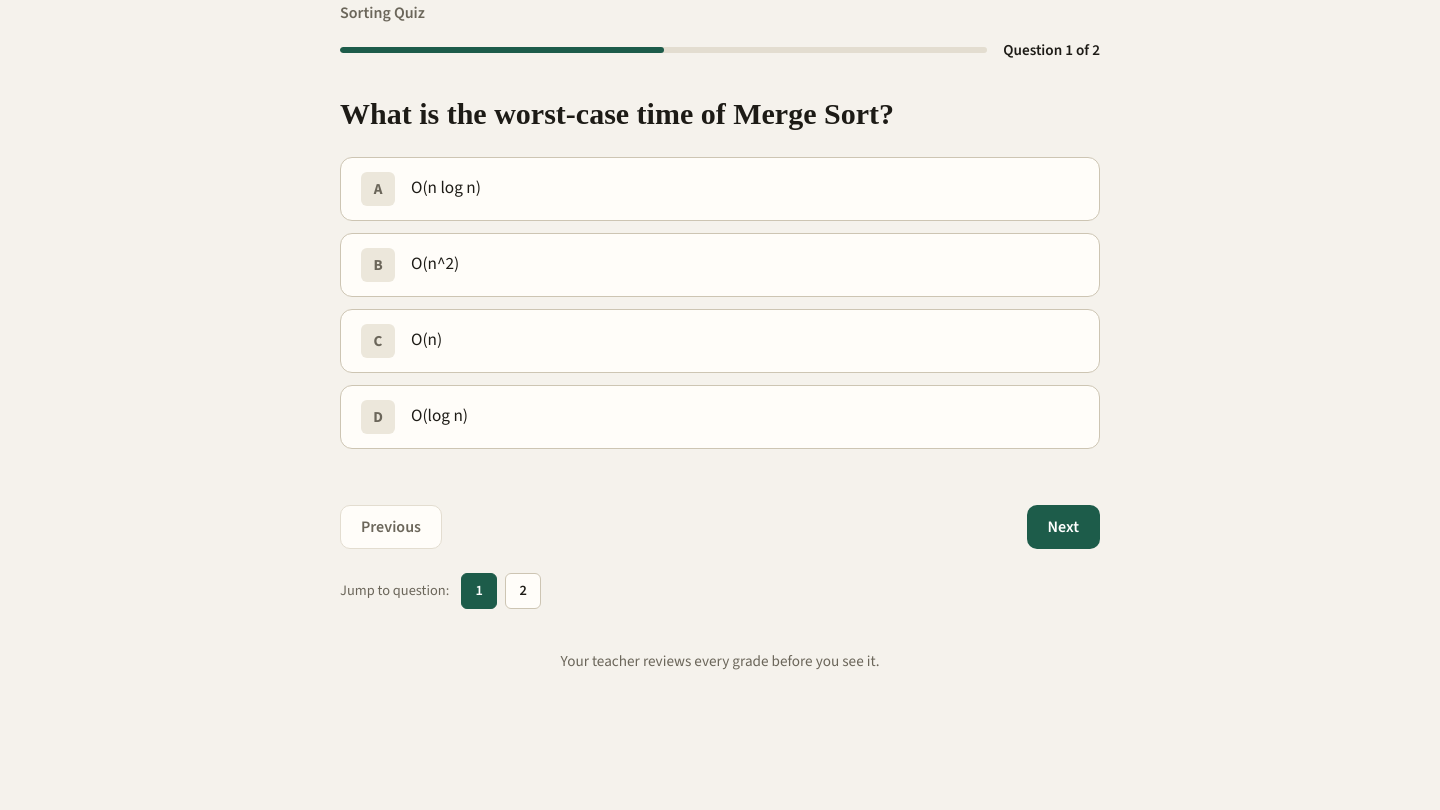
Test: Quiz submit after the sign-in has expired › keeps the answers and the page instead of sending the student to /login
The width and height of the screenshot is (1440, 810).
Click the radio button named "A. O(n log n)".
click(378, 189)  # box [340,157,1100,221]
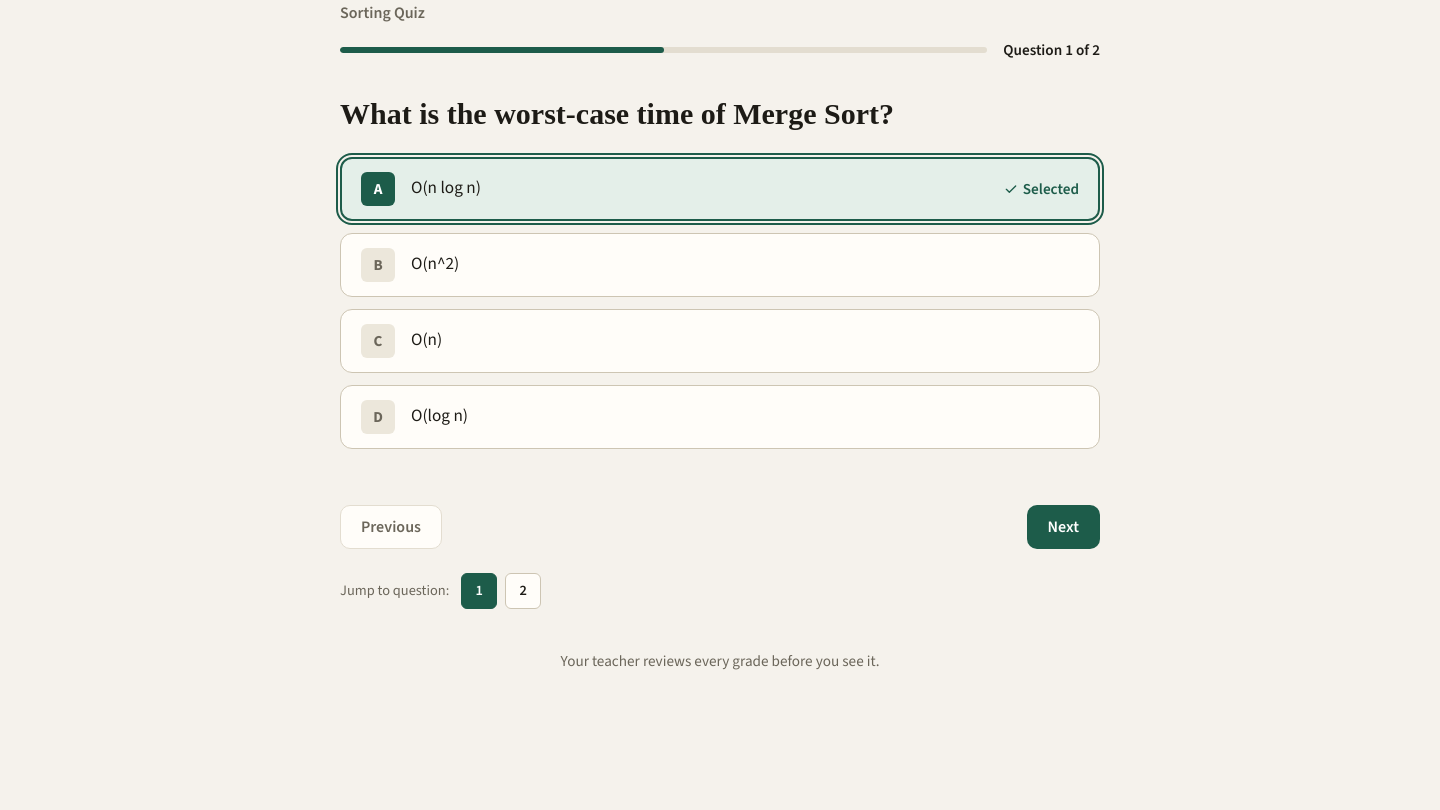
Click the button "Next".
click(1063, 527)  # box [1026,505,1100,549]
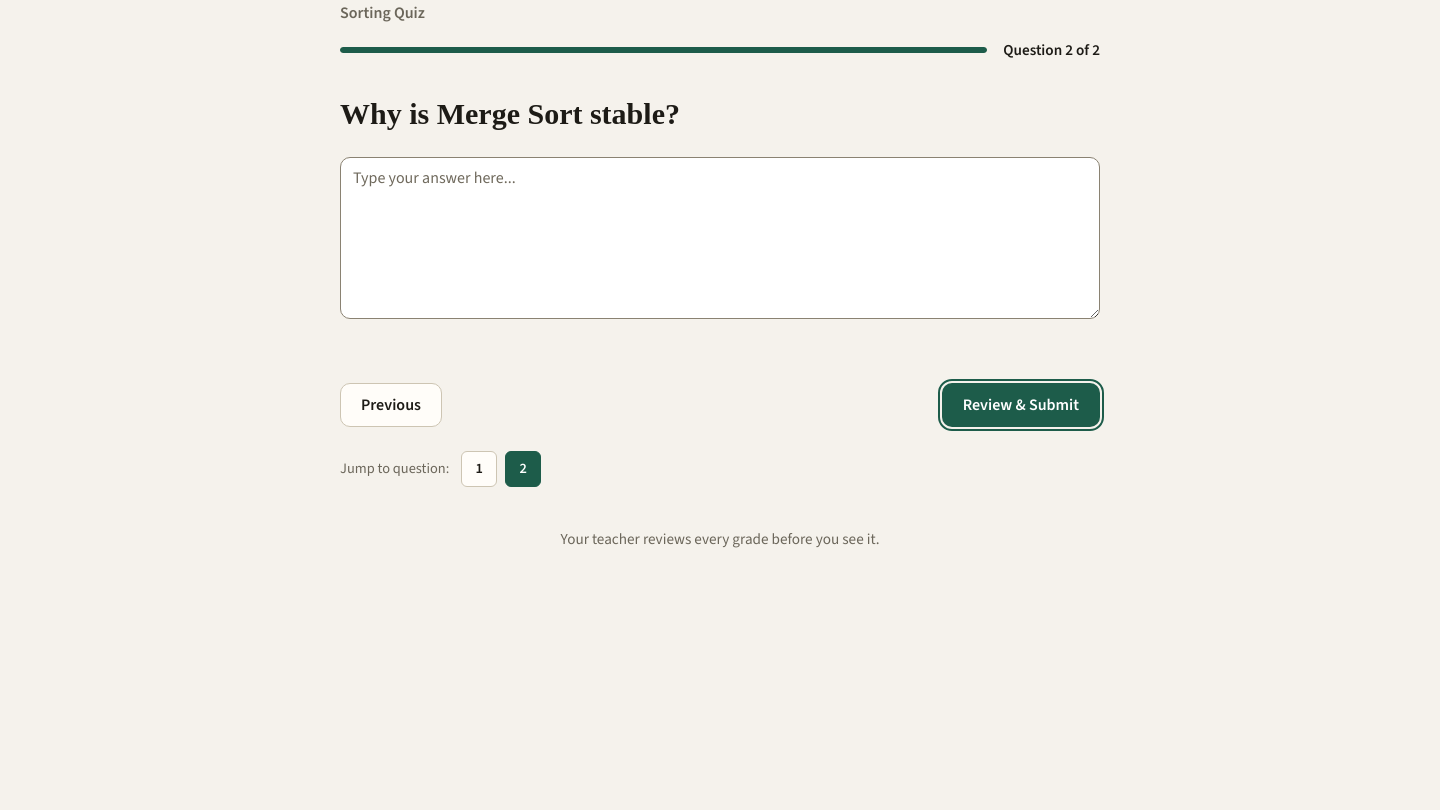
Type "It keeps equal keys in order" into the text box.
click(720, 238); type("It keeps equal keys in order")  # box [340,157,1100,319]
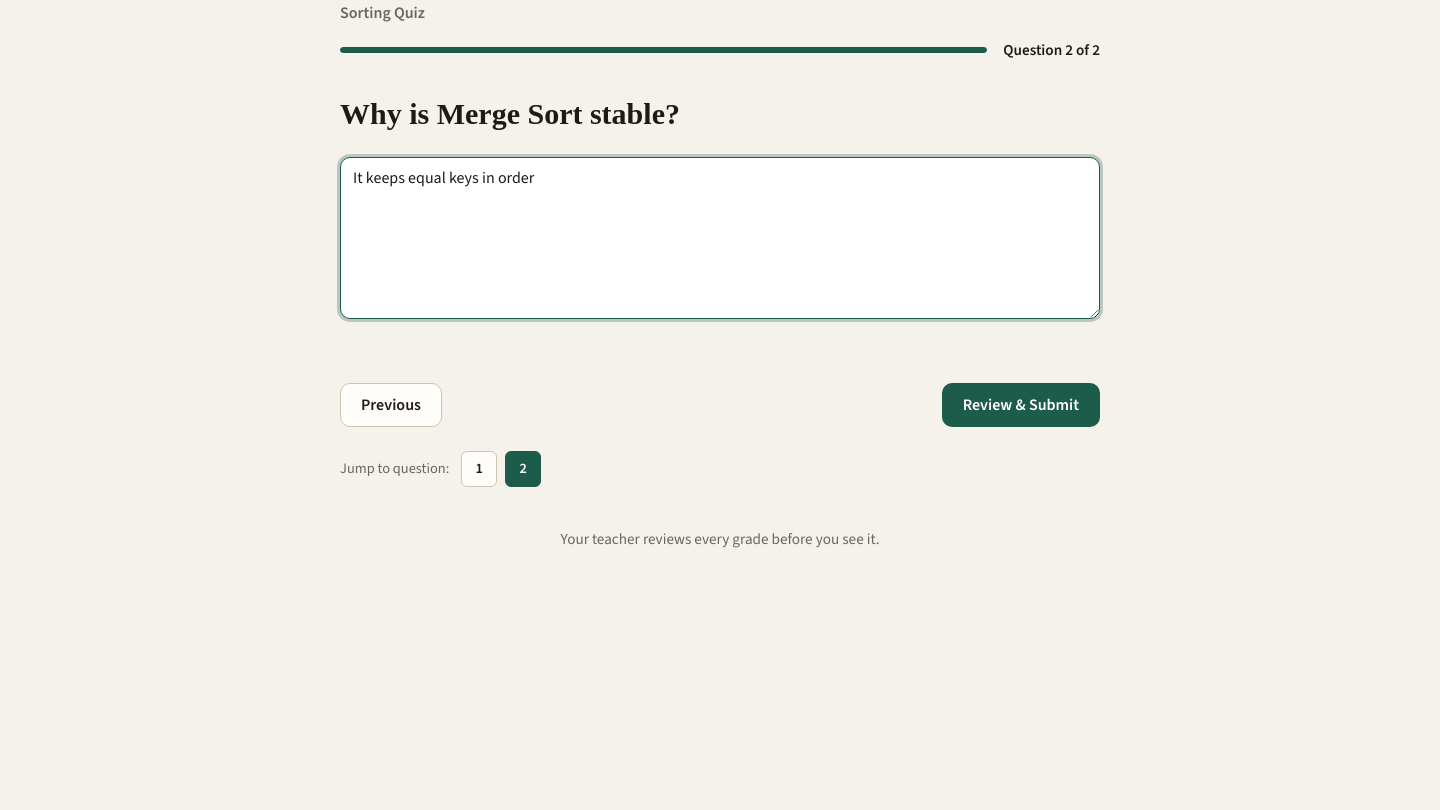
Click the button "Review & Submit".
click(1021, 404)  # box [942,382,1100,426]
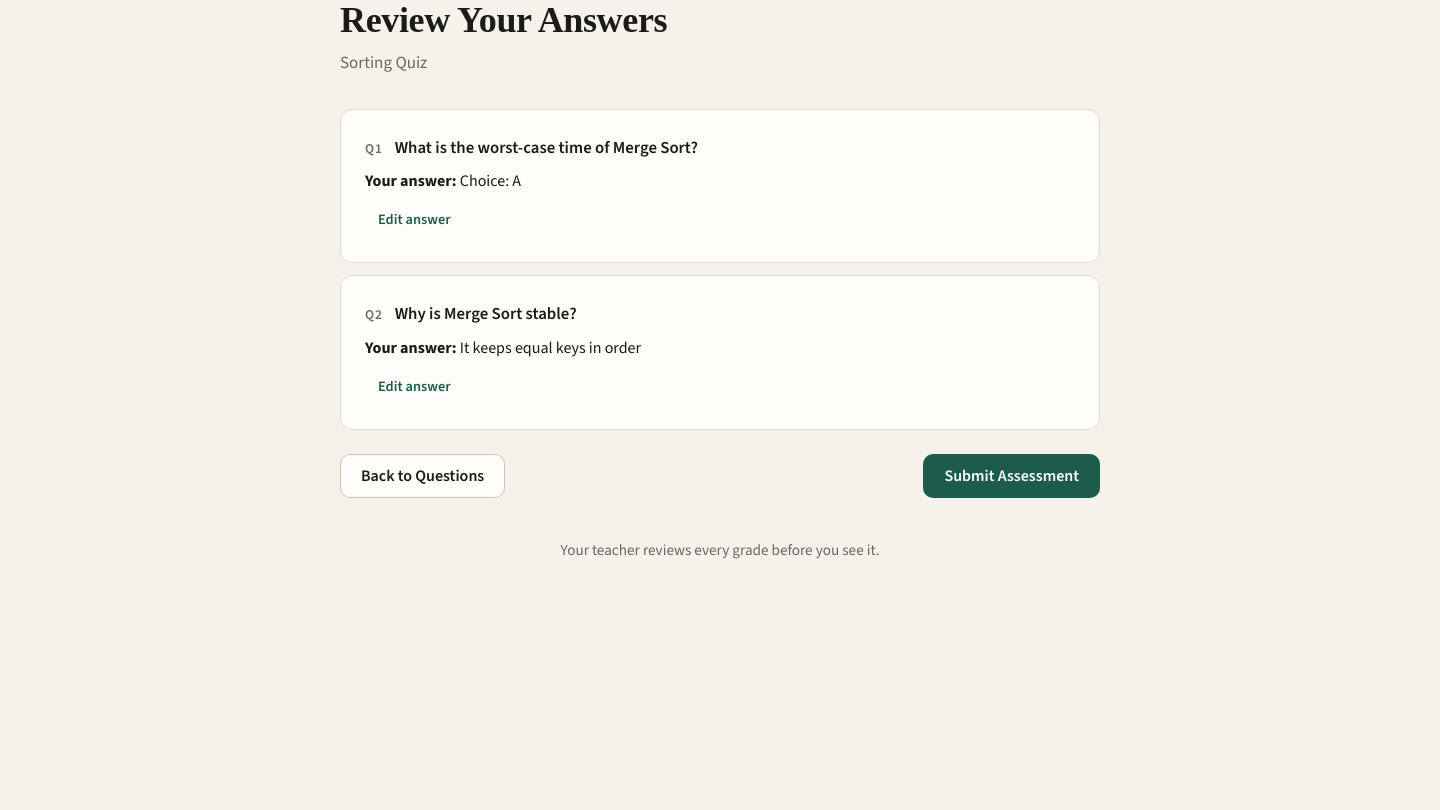
Click the button "Submit Assessment".
click(1012, 476)  # box [924,454,1100,498]
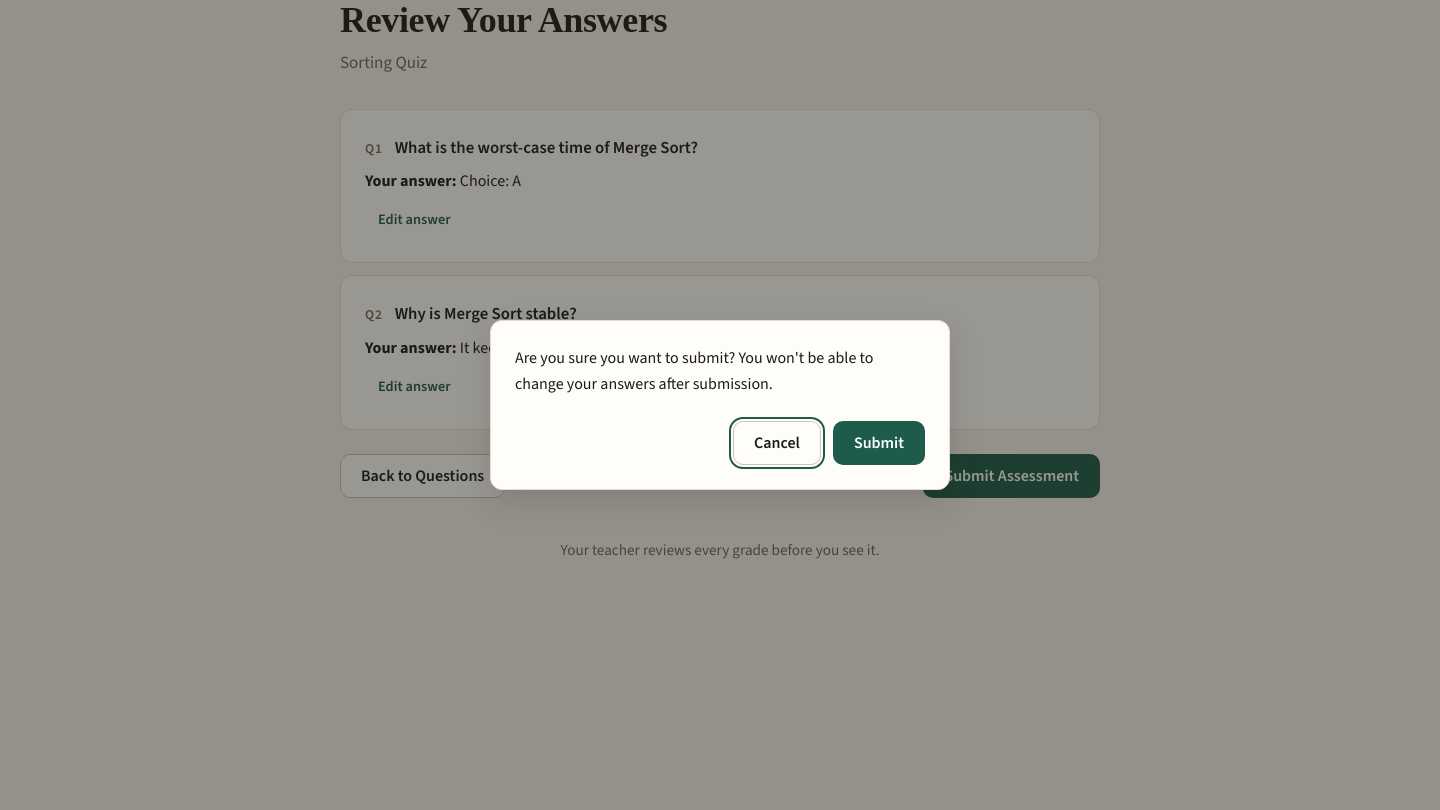
Click the button "Submit".
click(879, 443)  # box [833,421,925,465]
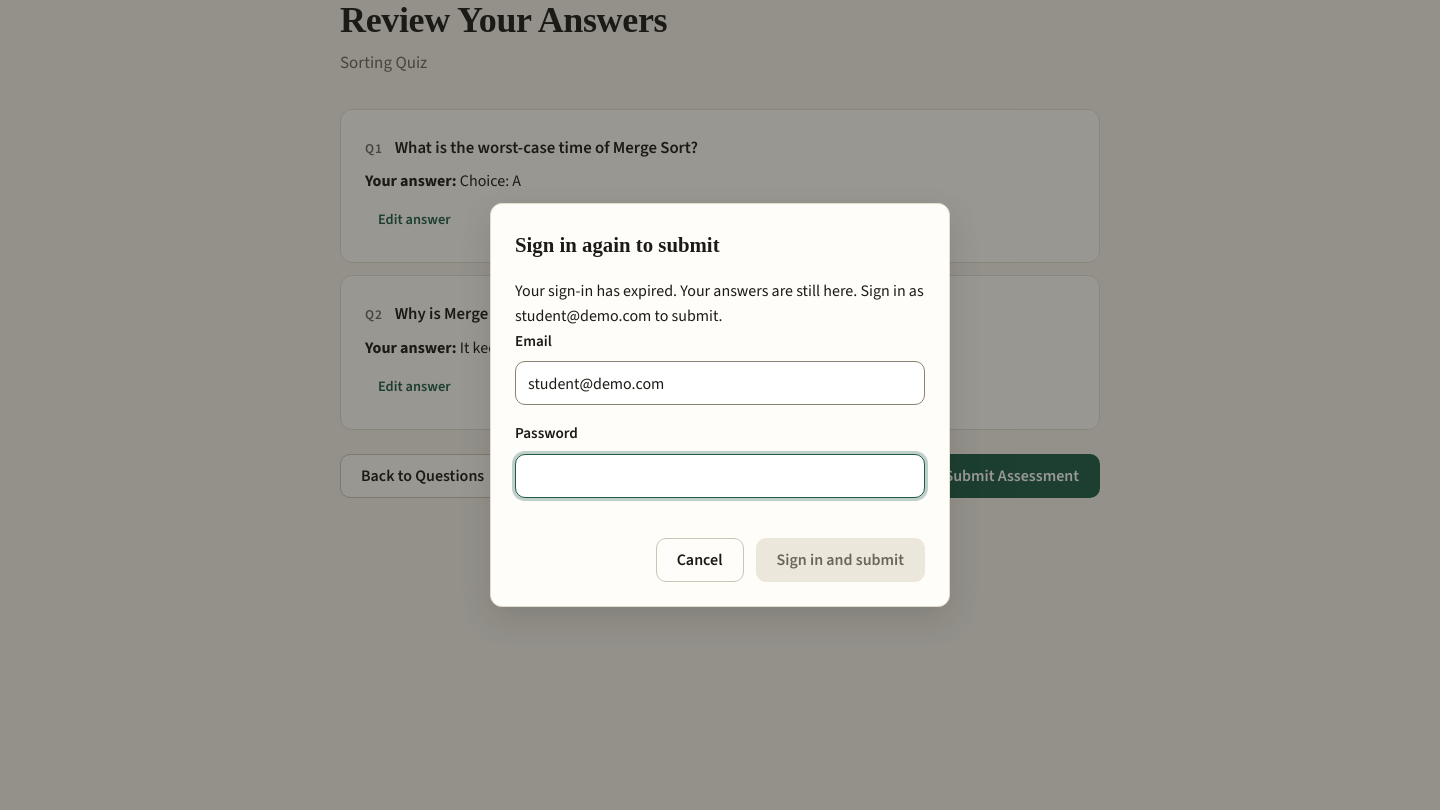
Now the text "Your answer: Choice: A" is shown, box [365,168,521,194]
Now the text "Your answer: It keeps equal keys in order" is shown, box [365,335,641,360]
Now the dialog "Sign in again to submit" is shown, box [490,204,950,607]
